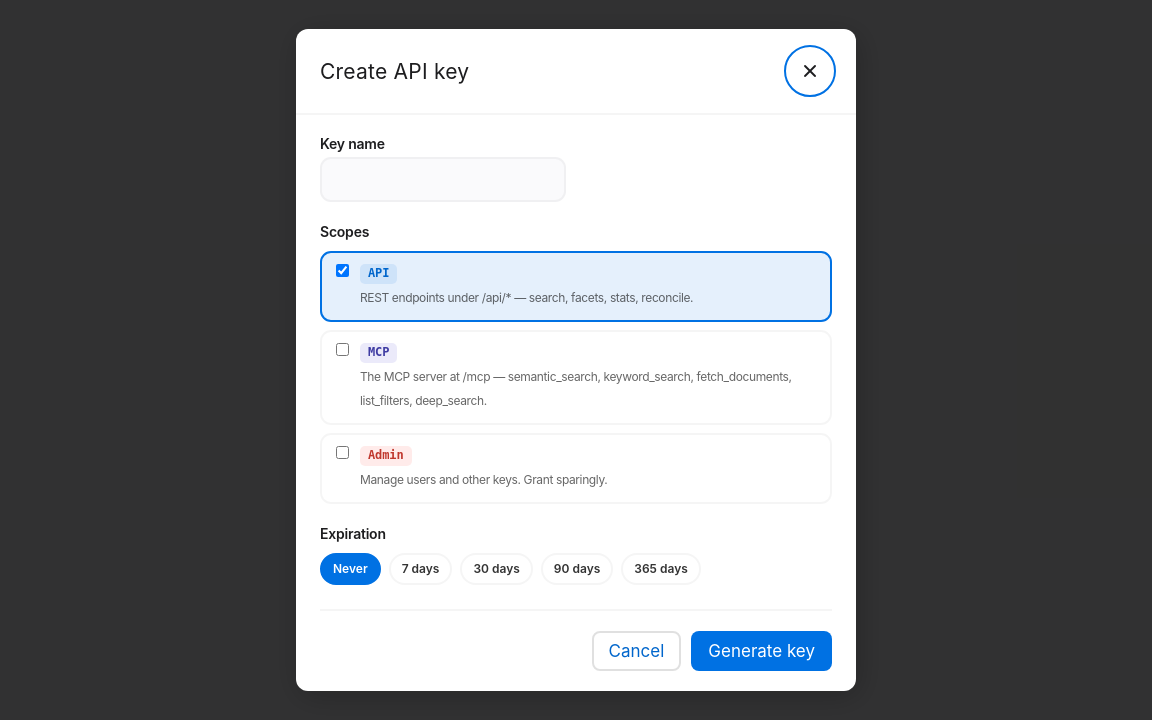
Test: APIKeyCreatePanel — form › rejects an empty key name on submit
This screenshot has width=1152, height=720.
Click the 7th button named "generate key". click: click(762, 651)
box: 691,631 -> 832,671
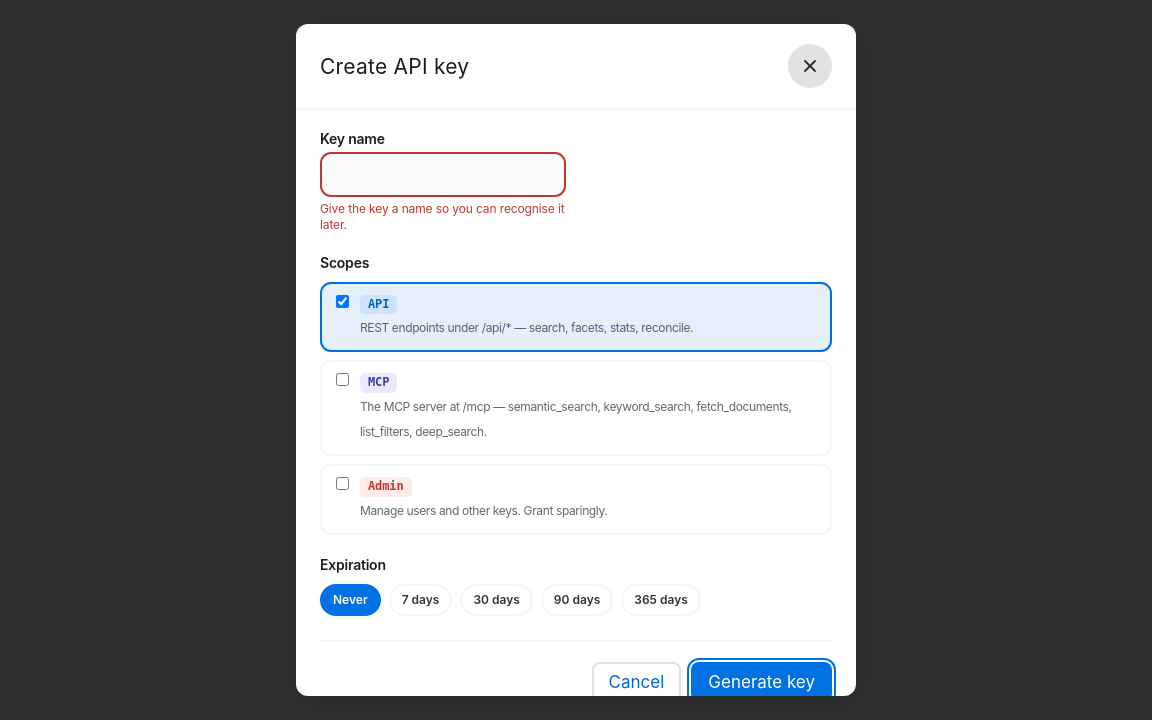
Check: the text "give the key a name" is shown, box 320,201 -> 564,232
